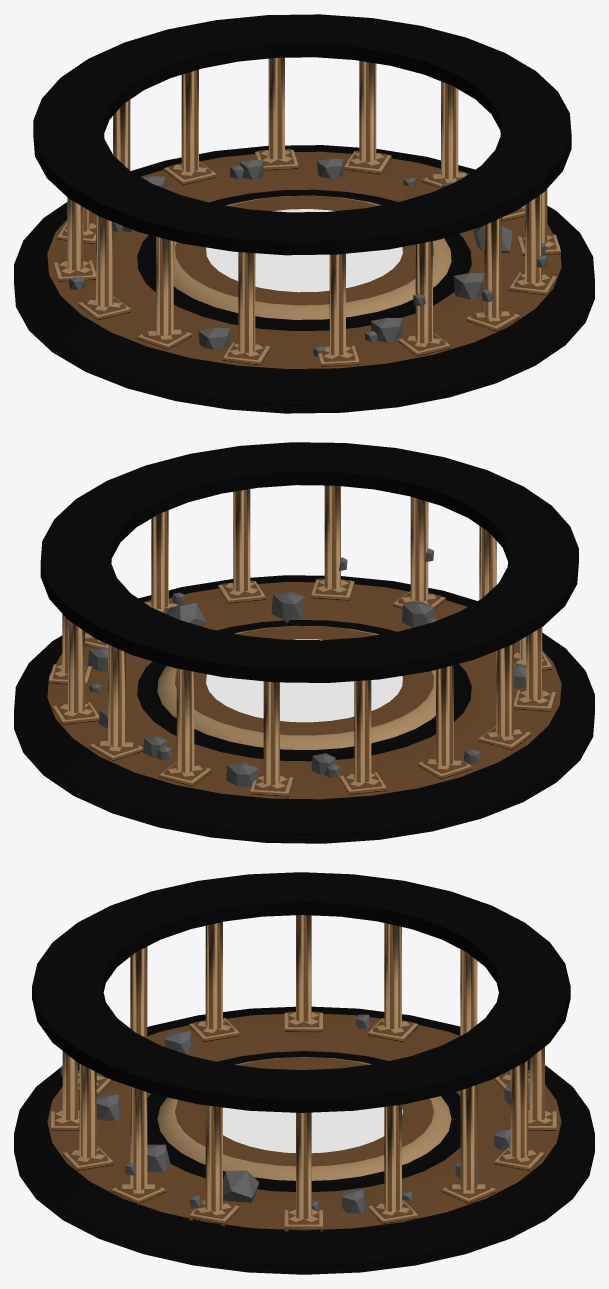
Rendered from Tower_Rock.glb.
3 renders of one model, top to bottom at view 1: azimuth 30°, elevation 25°; view 2: azimuth 150°, elevation 25°; view 3: azimuth 270°, elevation 25°, orthographic.
Visible parts, largest first — view 1: Cylinder, Circle.001, Cube.005, Cube.006, Cube.003, Cube.009, Cube.002, Cube.013, Cube.014, Cube.011, Cube.004, Cube.010 (+7 smaller); view 2: Cylinder, Circle.001, Cube.003, Cube.008, Cube.007, Cube.014, Cube.016, Cube.011, Cube.012, Cube.002, Cube.004, Cube.006 (+8 smaller); view 3: Cylinder, Circle.001, Cube.010, Cube.009, Cube.015, Cube.016, Cube.006, Cube.007, Cube.014, Cube.004, Cube.001, Cube.011 (+9 smaller).
Part boxes in pixels (x1,y1,x2,y2): Cylinder: [14, 145, 594, 413]; Circle.001: [33, 14, 571, 255]; Cube.005: [223, 252, 270, 365]; Cube.006: [344, 61, 391, 174]; Cube.003: [164, 69, 216, 185]; Cube.009: [137, 236, 191, 349]; Cube.002: [398, 241, 450, 356]; Cube.013: [318, 253, 359, 367]; Cube.014: [255, 57, 298, 170]; Cube.011: [466, 217, 519, 331]; Cube.004: [78, 215, 130, 320]; Cube.010: [422, 81, 468, 188]; Cylinder: [14, 575, 594, 843]; Circle.001: [40, 442, 578, 682]; Cube.003: [159, 668, 211, 786]; Cube.008: [339, 680, 386, 795]; Cube.007: [218, 489, 265, 604]; Cube.014: [89, 644, 143, 761]; Cube.016: [417, 665, 471, 779]; Cube.011: [311, 485, 354, 600]; Cube.012: [250, 681, 293, 796]; Cube.002: [393, 497, 445, 609]; Cube.004: [478, 644, 531, 750]; Cube.006: [52, 620, 99, 725]; Cylinder: [14, 1006, 594, 1274]; Circle.001: [32, 872, 570, 1112]; Cube.010: [368, 1104, 418, 1225]; Cube.009: [189, 922, 239, 1042]; Cube.015: [189, 1105, 239, 1226]; Cube.016: [368, 923, 418, 1042]; Cube.006: [441, 1085, 495, 1203]; Cube.007: [111, 1086, 165, 1205]; Cube.014: [494, 1060, 544, 1171]; Cube.004: [284, 915, 322, 1032]; Cube.001: [284, 1112, 322, 1231]; Cube.011: [63, 1063, 113, 1171].
Size of the model in its own units: 200 by 62.54 by 200.
